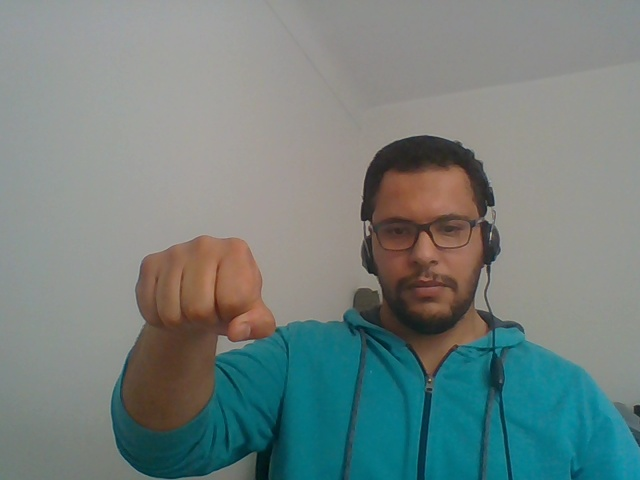yes: (118, 211, 286, 375)
